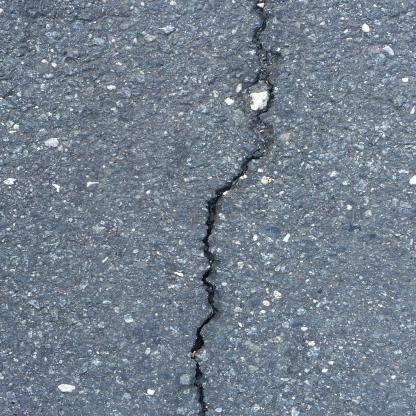Cracks: (193, 0, 280, 416)
